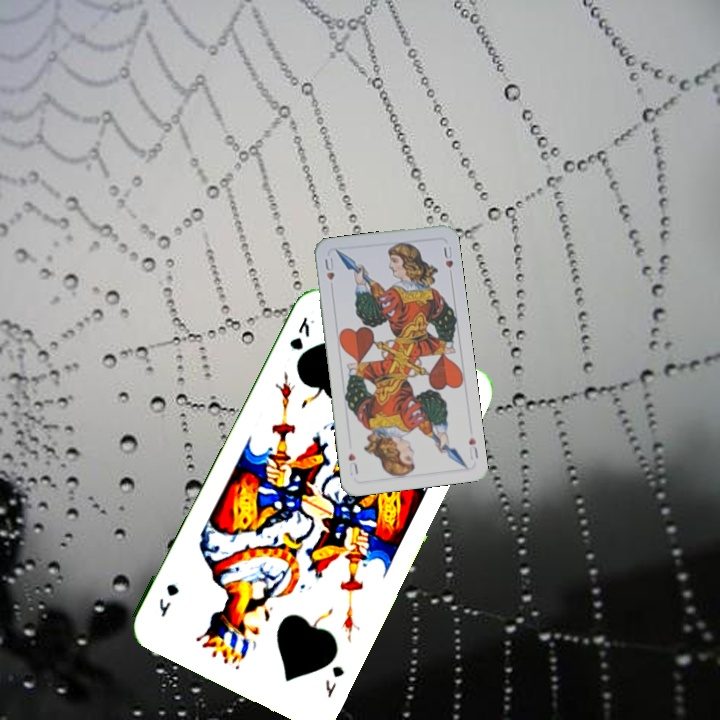GK: (285, 312, 317, 355), (321, 661, 347, 701)
HU: (464, 433, 481, 462), (321, 254, 337, 283)
